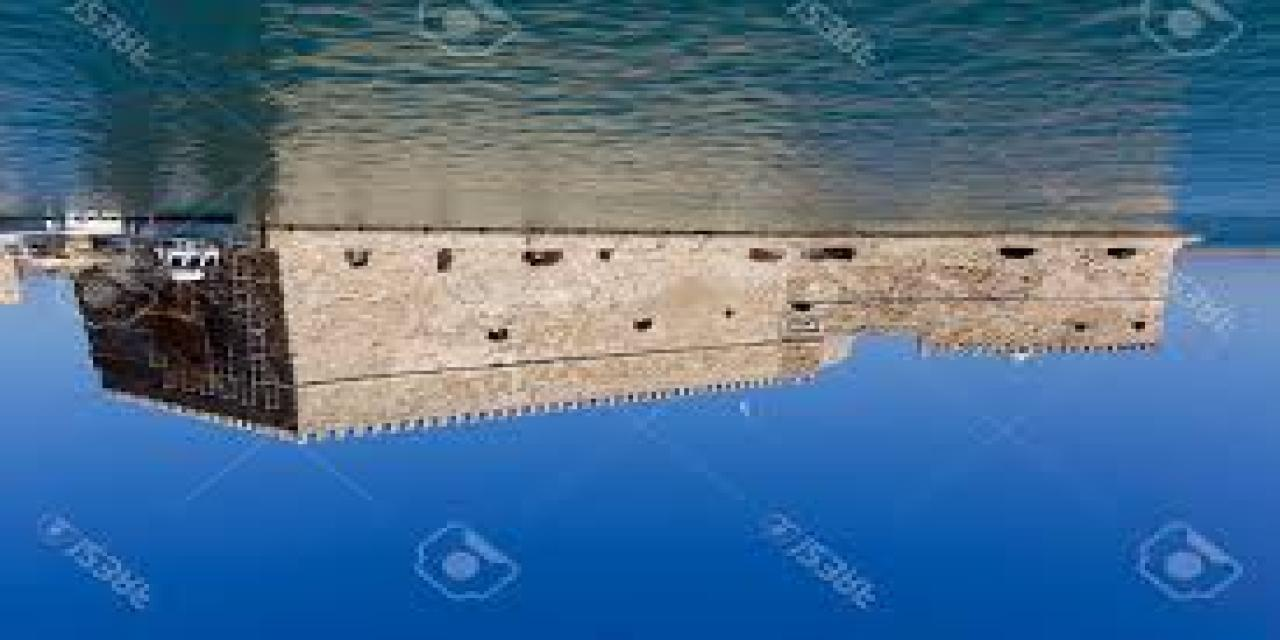Kules: (72, 233, 1185, 457)
